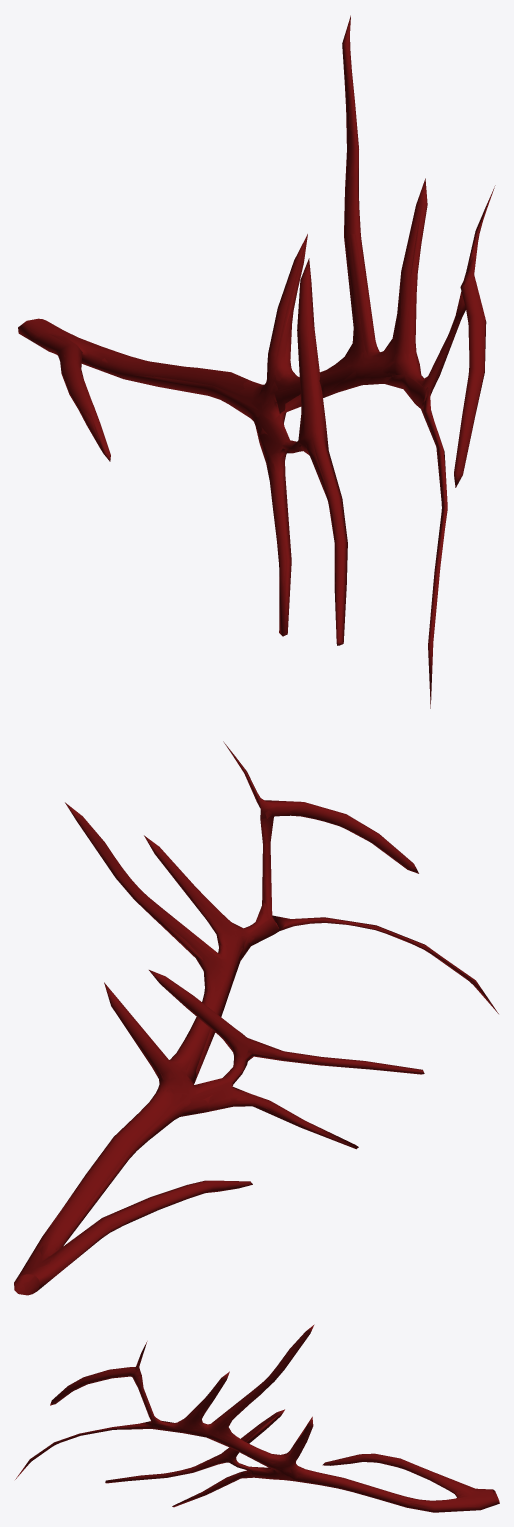
The model's file is L arteria facialis.fbx.
3 renders of one model, top to bottom at view 1: azimuth 30°, elevation 25°; view 2: azimuth 150°, elevation 25°; view 3: azimuth 270°, elevation 25°, orthographic. The views are drawn at different scales.
Parts seen in each view (by area): view 1: L arteria facialis, L arteria facialis low, L arteria facialis high; view 2: L arteria facialis, L arteria facialis high, L arteria facialis low; view 3: L arteria facialis, L arteria facialis high, L arteria facialis low.
Part boxes in pixels (box(x1,y1,x2,y2)): L arteria facialis: box(18, 15, 495, 708); L arteria facialis low: box(19, 84, 484, 559); L arteria facialis high: box(23, 36, 485, 616); L arteria facialis: box(14, 741, 498, 1295); L arteria facialis high: box(14, 768, 480, 1294); L arteria facialis low: box(14, 773, 425, 1295); L arteria facialis: box(15, 1324, 499, 1512); L arteria facialis high: box(25, 1330, 499, 1509); L arteria facialis low: box(31, 1336, 499, 1511).
Size of the model in its own units: 4.02 by 7.65 by 14.39.
